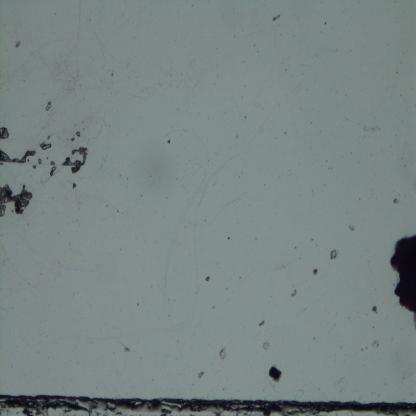Background material: (0, 184, 34, 219), (62, 146, 90, 178), (0, 149, 37, 164), (216, 345, 230, 361), (38, 138, 54, 151), (0, 124, 10, 140), (329, 247, 340, 260), (371, 336, 381, 350), (196, 369, 206, 381), (272, 11, 282, 22), (260, 342, 272, 350), (290, 287, 298, 297), (202, 272, 210, 281), (46, 101, 52, 112), (394, 196, 402, 204), (372, 304, 378, 314), (258, 317, 264, 327), (312, 266, 318, 276), (124, 346, 132, 353), (50, 166, 56, 175), (350, 222, 356, 230), (37, 160, 44, 166), (50, 160, 56, 166), (73, 180, 77, 189), (76, 131, 80, 139), (16, 42, 20, 50), (70, 136, 75, 142), (32, 162, 38, 167), (168, 138, 171, 144)
Edge of slide: (0, 388, 416, 416)
Fragment: (267, 365, 283, 383)
Pen: (390, 232, 416, 320)
